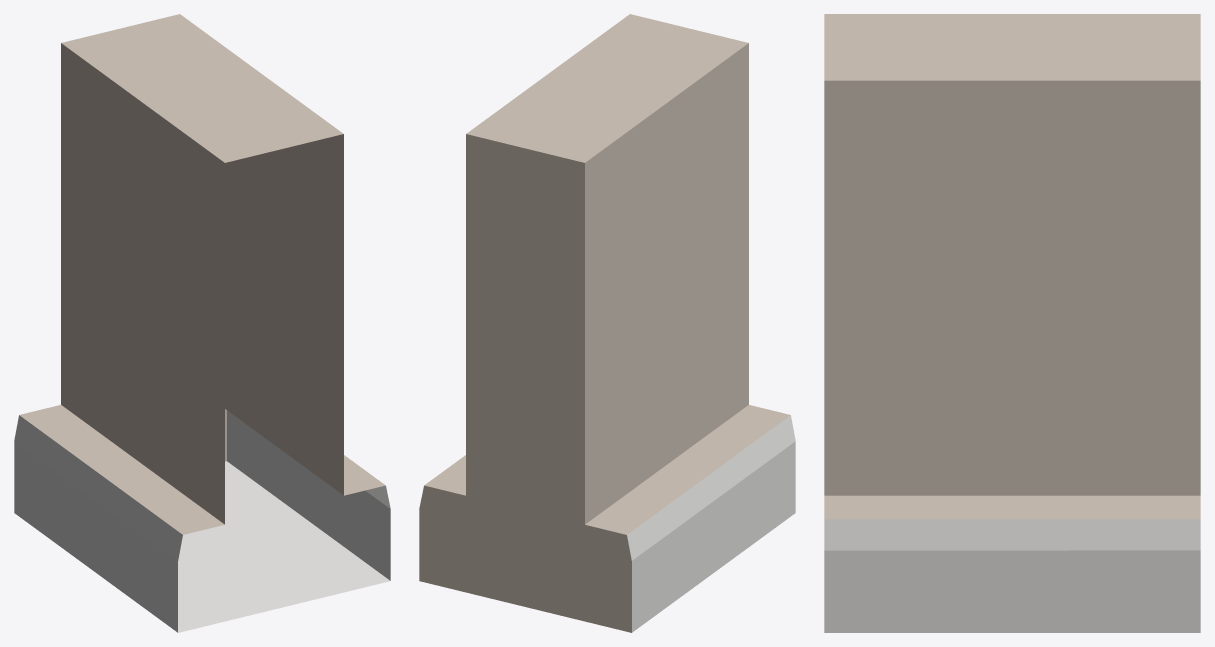
The model's file is ArcWall02_house_01.fbx.
The picture shows the model from 3 angles, left to right: view 1: azimuth 30°, elevation 25°; view 2: azimuth 150°, elevation 25°; view 3: azimuth 270°, elevation 25°; orthographic projection. The views are drawn at different scales.
Parts seen in each view (by area): view 1: Arc02Wall01; view 2: Arc02Wall01; view 3: Arc02Wall01.
Boxes of the visible parts, box(x1,y1,x2,y2) form: Arc02Wall01: box(14, 14, 390, 632); Arc02Wall01: box(419, 14, 795, 632); Arc02Wall01: box(824, 14, 1200, 632).
Size of the model in its own units: 83.74 by 173 by 112.
